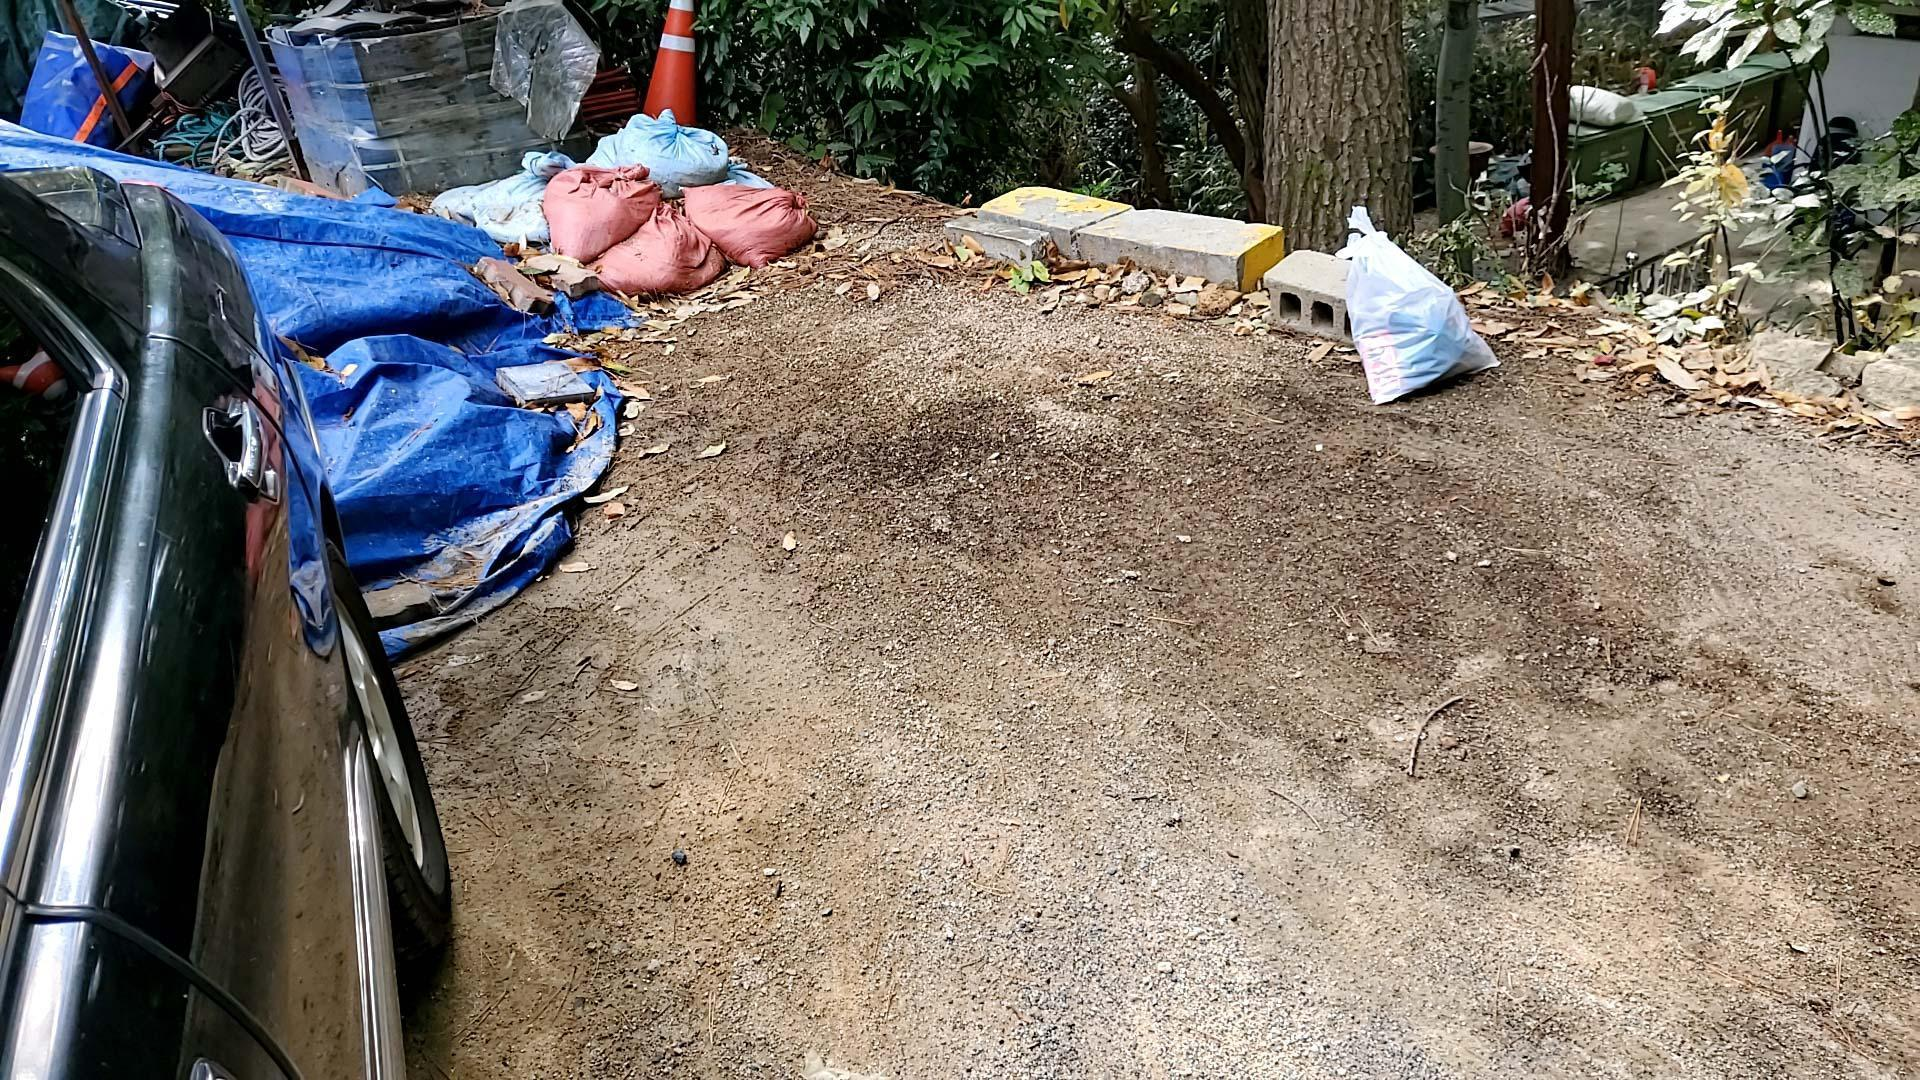white_bag: (1331, 200, 1503, 405)
